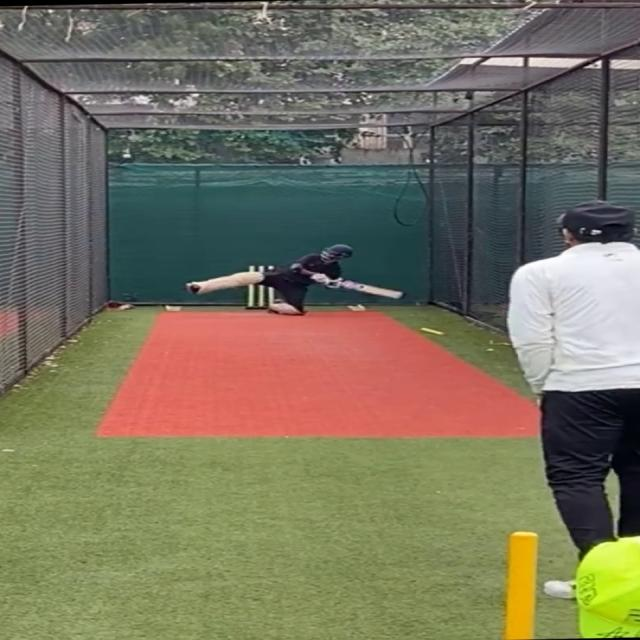stump: (247, 262, 276, 308)
